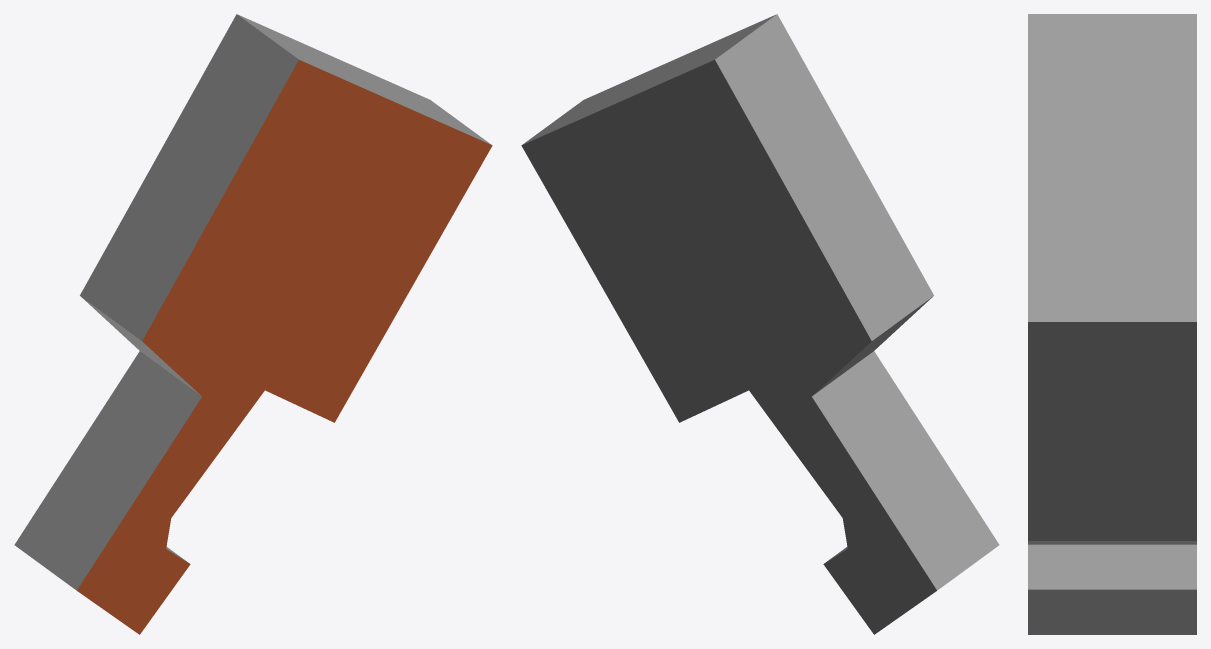
File: construction_2055_assumed_A_Casa_h6m.obj
3 views of the same model, side by side, from view 1: azimuth 30°, elevation 25°; view 2: azimuth 150°, elevation 25°; view 3: azimuth 270°, elevation 25° (orthographic). The views are drawn at different scales.
Parts seen in each view (by area): view 1: construction_2055_assumed_A_Casa; view 2: construction_2055_assumed_A_Casa; view 3: construction_2055_assumed_A_Casa.
Boxes of the visible parts, box(x1,y1,x2,y2) form: construction_2055_assumed_A_Casa: box(14, 14, 492, 634); construction_2055_assumed_A_Casa: box(521, 14, 999, 634); construction_2055_assumed_A_Casa: box(1028, 14, 1196, 634).
Size of the model in its own units: 23.09 by 28.46 by 6.
